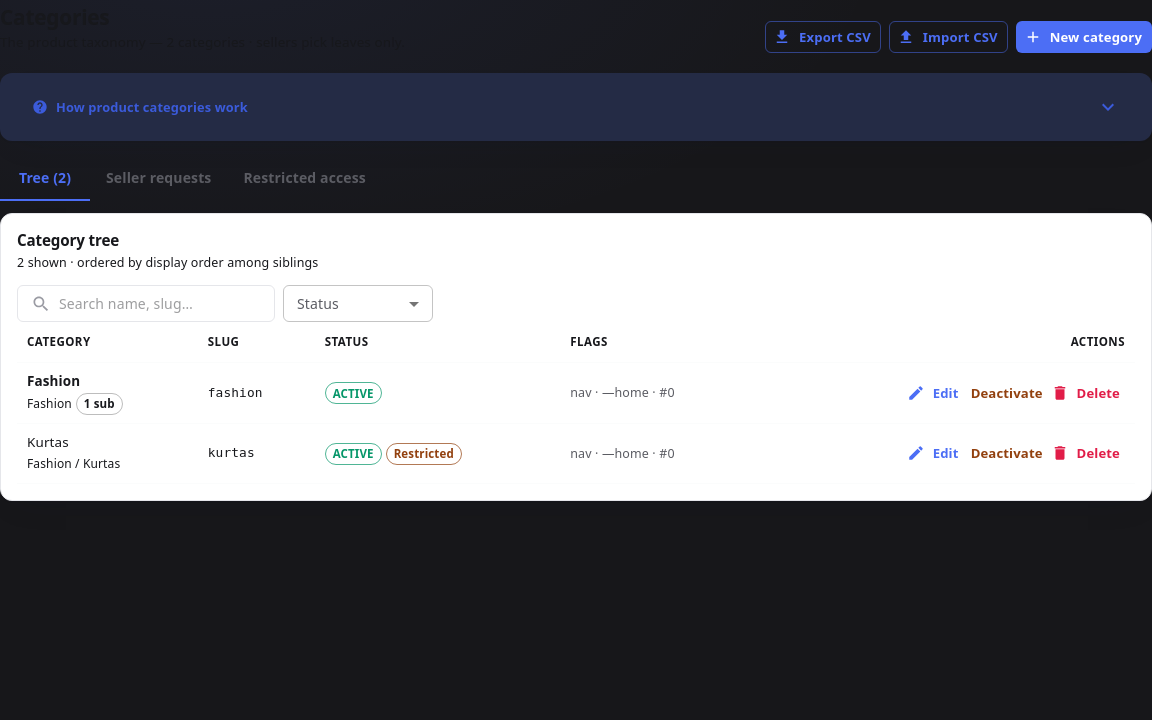
Scenario: CategoriesView (admin) › opens the create dialog from New category
The width and height of the screenshot is (1152, 720).
Click the button "New category".
click(1084, 38)  # box [1016,22,1151,54]
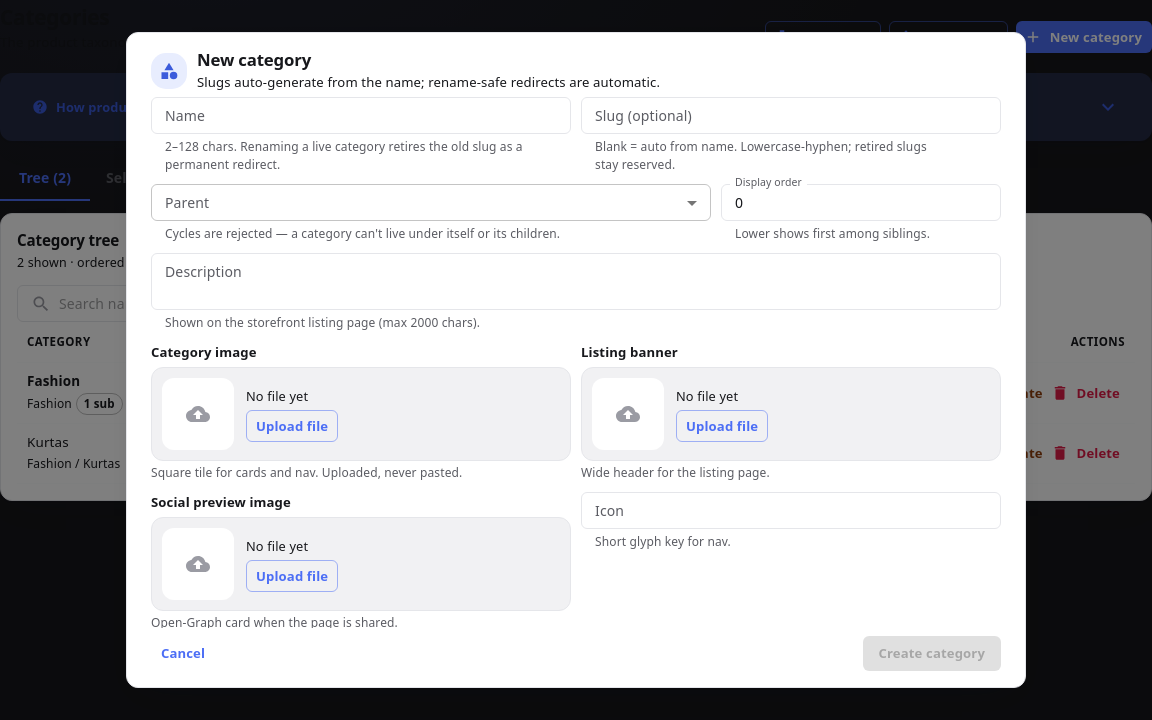
Now the text "Slugs auto-generate from the name; rename-safe redirects are automatic." is shown, box [197,72,660,93]
